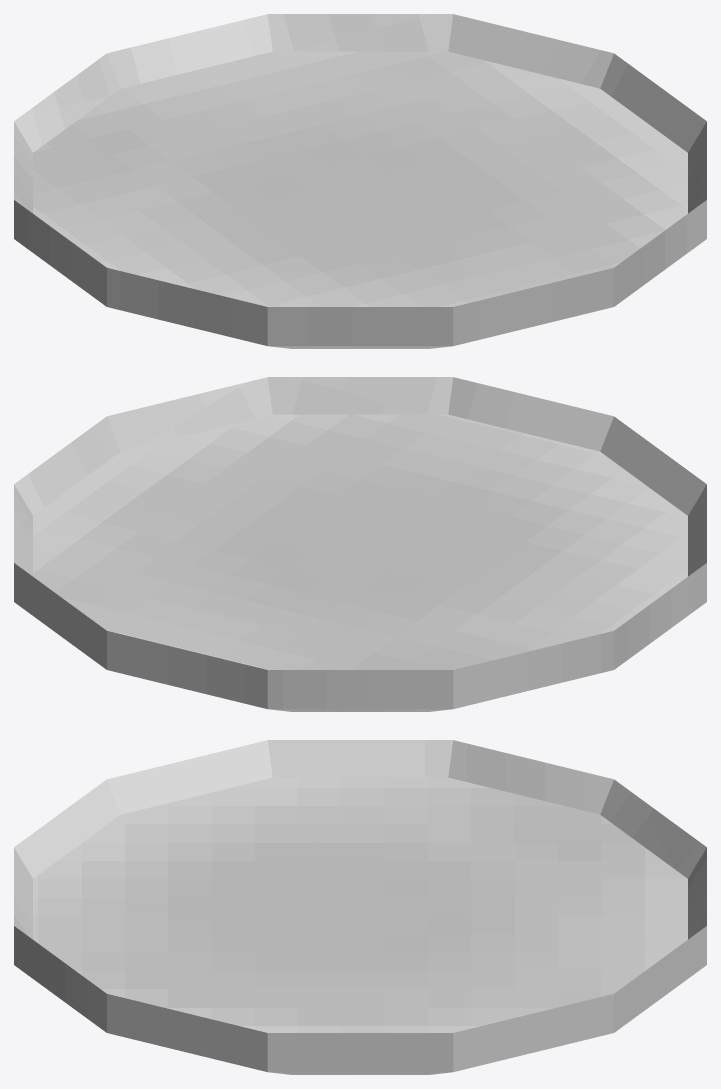
File: plate.fbx
3 renders of one model, top to bottom at view 1: azimuth 30°, elevation 25°; view 2: azimuth 150°, elevation 25°; view 3: azimuth 270°, elevation 25°, orthographic.
Parts seen in each view (by area): view 1: cylinder; view 2: cylinder; view 3: cylinder.
Boxes of the visible parts, x1,y1,x2,y2 form: cylinder: [14, 14, 706, 348]; cylinder: [14, 377, 706, 711]; cylinder: [14, 740, 706, 1074].
Size of the model in its own units: 100 by 12.5 by 100.
Materials: 1 (1 with a texture image).
